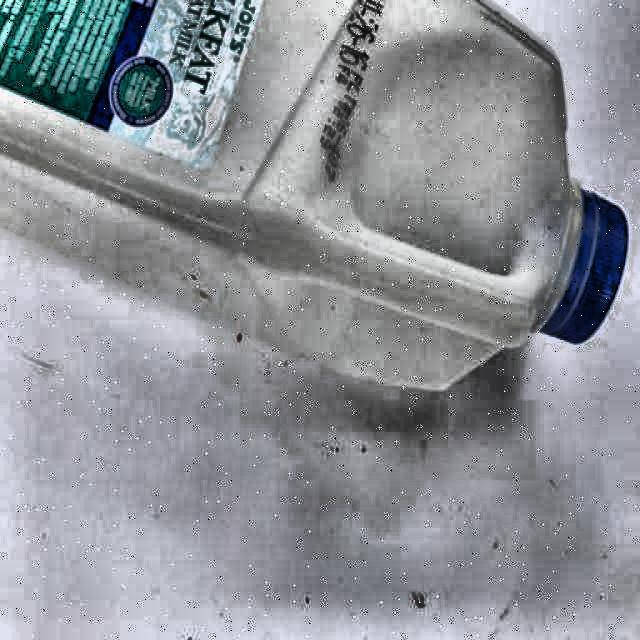plastic: (0, 0, 630, 347)
